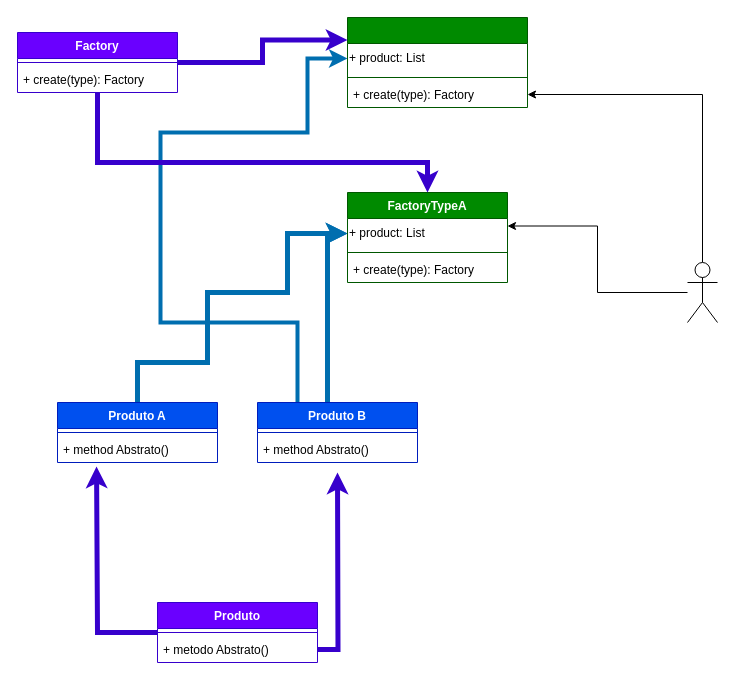
The diagram is 735 pixels wide and 683 high, and some of its shapes have lost their labels. Here are the shapes that lost their labels. From the top down, the box of each, then its label:
(346, 16, 528, 108): FactoryTypeB
(686, 262, 718, 322): Actor
